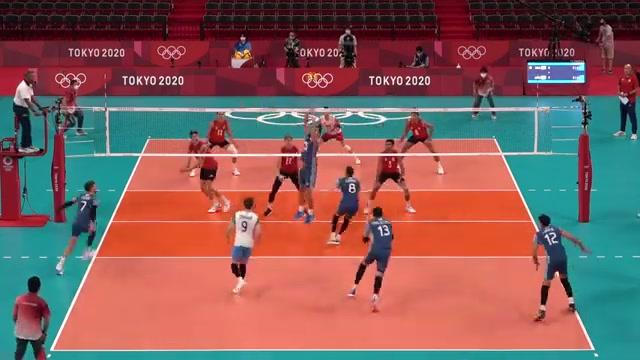ball: (304, 71, 323, 84)
